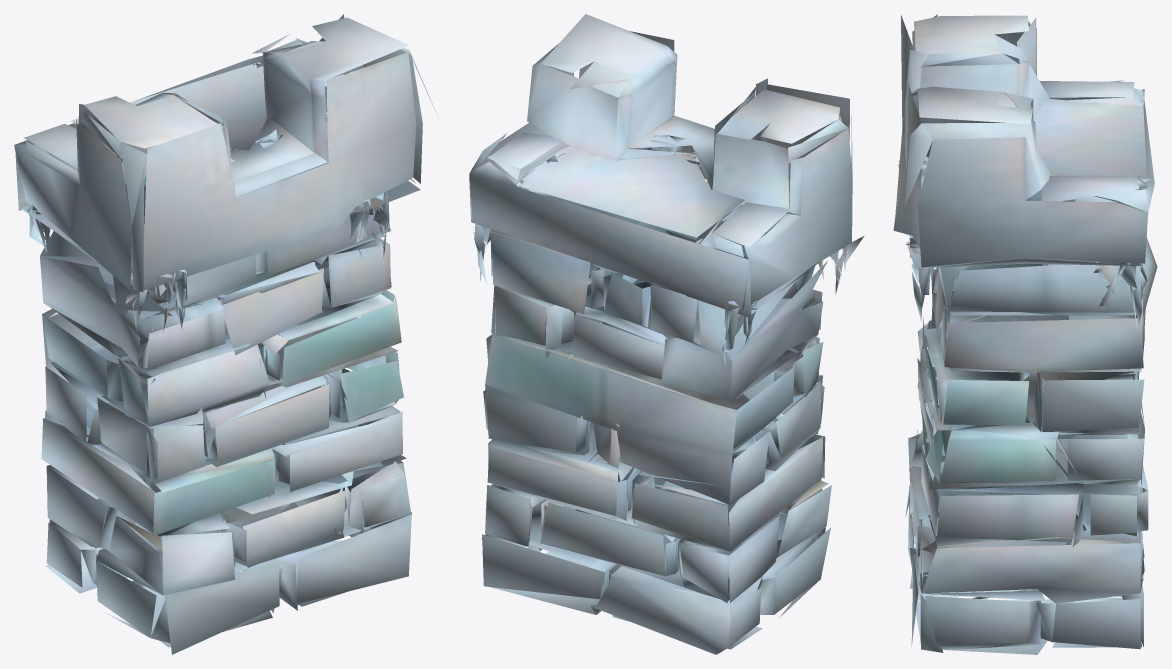
The model's file is snowfort.glb.
3 renders of one model, left to right at view 1: azimuth 30°, elevation 25°; view 2: azimuth 150°, elevation 25°; view 3: azimuth 270°, elevation 25°, orthographic. The views are drawn at different scales.
Parts seen in each view (by area): view 1: snowfort; view 2: snowfort; view 3: snowfort.
Part boxes in pixels (<box>): snowfort: <box>14,14,437,654</box>; snowfort: <box>469,14,864,654</box>; snowfort: <box>893,14,1157,654</box>.
Bounding box in the file's own units: 1.1 × 1.83 × 0.7924.
Materials: 1 (1 with a texture image).
